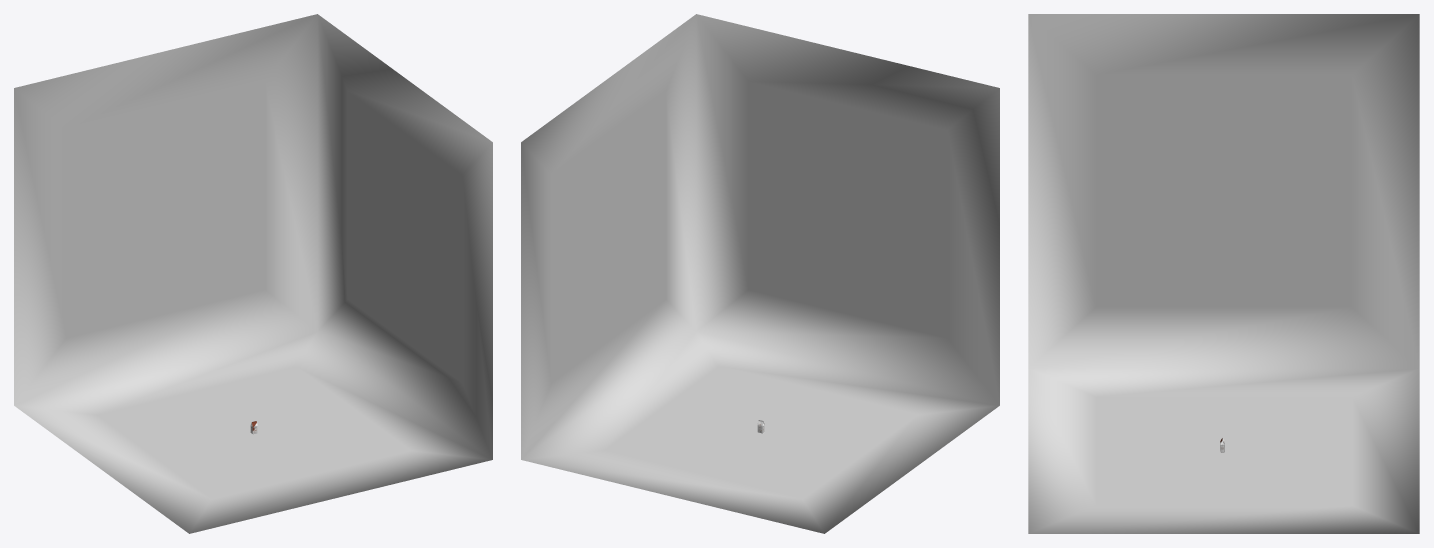
Rendered from Daily_Arabica_1000g.glb.
The picture shows the model from 3 angles, left to right: view 1: azimuth 30°, elevation 25°; view 2: azimuth 150°, elevation 25°; view 3: azimuth 270°, elevation 25°; orthographic projection. The views are drawn at different scales.
Visible parts, largest first — view 1: Cube; view 2: Cube; view 3: Cube.
Boxes of the visible parts, x1,y1,x2,y2 form: Cube: (14,14,492,533); Cube: (521,14,999,533); Cube: (1028,14,1419,533).
Bounding box in the file's own units: 800 × 800 × 800.
Materials: 1 (1 with a texture image).
